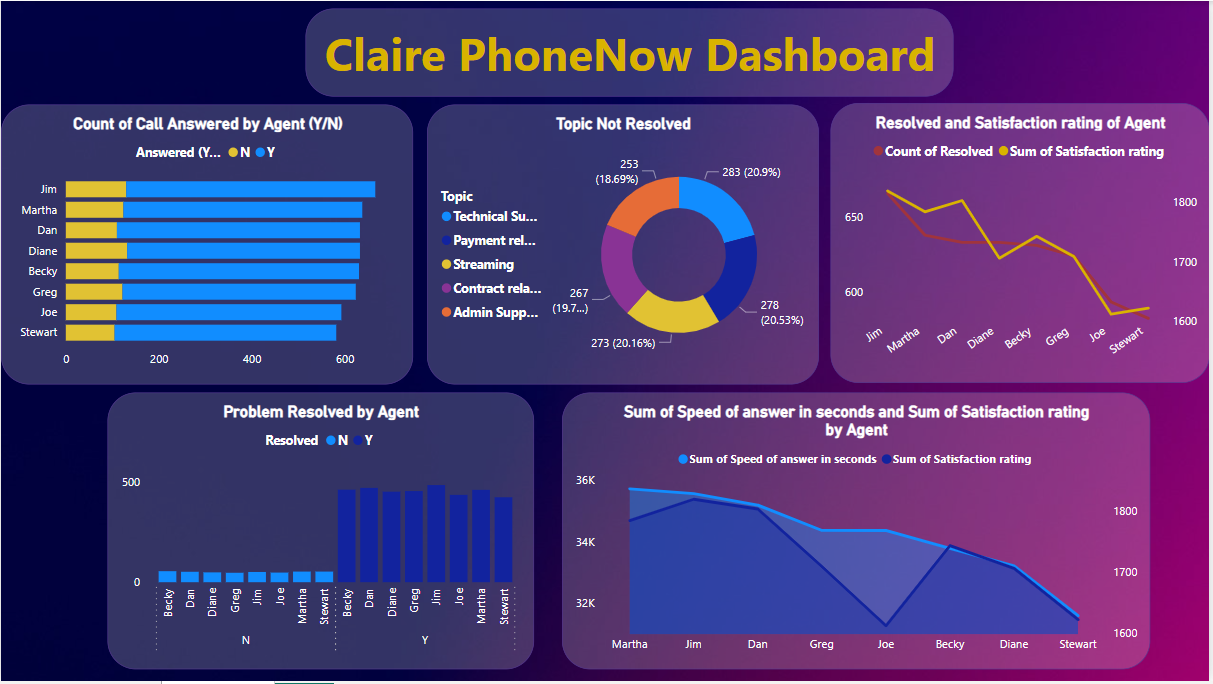

This screenshot's page, from the dashboard's own definition file:
{"tool":"powerbi","page":{"name":"Page 1","canvas":[1280,720],"ordinal":0},"visuals":[{"type":"textbox","box":[323.3,8.3,686.7,93.3],"z":0},{"type":"barChart","title":"Count of Call Answered by Agent (Y/N)","fields":{"Category":["Sheet1.Agent"],"Y":["Sheet1.Answered (Y/N)"],"Series":["Sheet1.Answered (Y/N)"]},"box":[0,110,436.7,296.7],"z":1000},{"type":"areaChart","fields":{"Category":["Sheet1.Agent"],"Y2":["Sheet1.Satisfaction rating"],"Y":["Sheet1.Speed of answer in seconds"]},"box":[595,415,623.3,293.3],"z":2000},{"type":"columnChart","title":"Problem Resolved by Agent","fields":{"Series":["Sheet1.Resolved"],"Category":["Sheet1.Resolved","Sheet1.Agent"],"Y":["Sheet1.Answered (Y/N)"]},"box":[113.3,415,451.7,293.3],"z":3000},{"type":"donutChart","title":"Topic Not Resolved","fields":{"Series":["Sheet1.Resolved"],"Category":["Sheet1.Topic"],"Y":["Sheet1.Resolved"]},"box":[451.7,110,415,296.7],"z":4000},{"type":"lineChart","title":"Resolved and Satisfaction rating of Agent","fields":{"Category":["Sheet1.Agent"],"Y2":["Sheet1.Satisfaction rating"],"Y":["Sheet1.Resolved"]},"box":[878.3,108.3,401.7,296.7],"z":5000}]}

Visuals, with their boxes in screenshot pixels (x1, y1, x2, y2), scaled from the page's 1280x720 canvas onto the 1213x684 screenshot:
textbox: [left=306, top=8, right=957, bottom=97]
"Count of Call Answered by Agent (Y/N)" barChart: [left=0, top=104, right=414, bottom=386]
areaChart - Sheet1.Agent x Sheet1.Satisfaction rating: [left=564, top=394, right=1155, bottom=673]
"Problem Resolved by Agent" columnChart: [left=107, top=394, right=535, bottom=673]
"Topic Not Resolved" donutChart: [left=428, top=104, right=821, bottom=386]
"Resolved and Satisfaction rating of Agent" lineChart: [left=832, top=103, right=1212, bottom=385]
